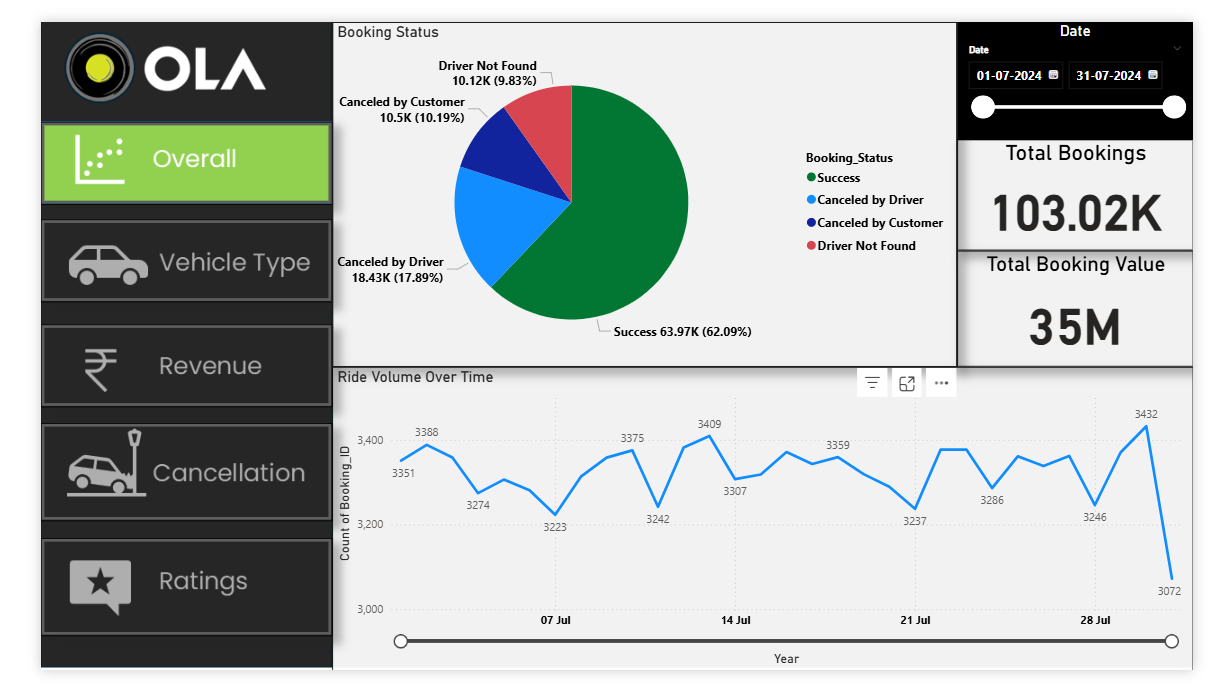

This screenshot's page, from the dashboard's own definition file:
{"tool":"powerbi","page":{"name":"Overall","canvas":[1280,720],"ordinal":0},"visuals":[{"type":"actionButton","box":[0,219.6,323.8,91.9],"z":0},{"type":"actionButton","box":[0,336.2,323.8,91.9],"z":1000},{"type":"actionButton","box":[0,446,323.8,108.4],"z":2000},{"type":"actionButton","box":[0,573.6,323.8,108.4],"z":3000},{"type":"actionButton","box":[0,111.1,323.8,91.9],"z":4000},{"type":"lineChart","title":"Ride Volume Over Time","fields":{"Category":["Bookings.Date.Variation.Date Hierarchy.Year","Bookings.Date.Variation.Date Hierarchy.Quarter","Bookings.Date.Variation.Date Hierarchy.Month","Bookings.Date.Variation.Date Hierarchy.Day"],"Y":["CountNonNull(Bookings.Booking_ID)"]},"box":[323.8,382.8,956.4,337.6],"z":5000},{"type":"pieChart","title":"Booking Status","fields":{"Category":["Bookings.Booking_Status"],"Y":["CountNonNull(Bookings.Booking_Status)"]},"box":[323.8,0,694.3,382.8],"z":6000},{"type":"slicer","title":"Date","fields":{"Values":["Bookings.Date"]},"box":[1018.2,0,262.1,130.4],"z":7000},{"type":"card","title":"Total Bookings","fields":{"Values":["CountNonNull(Bookings.Booking_Status)"]},"box":[1018.2,130.4,262.1,123.5],"z":8000},{"type":"card","title":"Total Booking Value","fields":{"Values":["Sum(Bookings.Booking_Value)"]},"box":[1018.2,253.9,262.1,129],"z":9000}]}

Visuals, with their boxes in screenshot pixels (x1, y1, x2, y2), scaled from the page's 1280x720 canvas onto the 1221x692 screenshot:
actionButton: (x1=0, y1=211, x2=309, y2=299)
actionButton: (x1=0, y1=323, x2=309, y2=411)
actionButton: (x1=0, y1=429, x2=309, y2=533)
actionButton: (x1=0, y1=551, x2=309, y2=655)
actionButton: (x1=0, y1=107, x2=309, y2=195)
"Ride Volume Over Time" lineChart: (x1=309, y1=368, x2=1220, y2=691)
"Booking Status" pieChart: (x1=309, y1=0, x2=971, y2=368)
"Date" slicer: (x1=971, y1=0, x2=1220, y2=125)
"Total Bookings" card: (x1=971, y1=125, x2=1220, y2=244)
"Total Booking Value" card: (x1=971, y1=244, x2=1220, y2=368)
